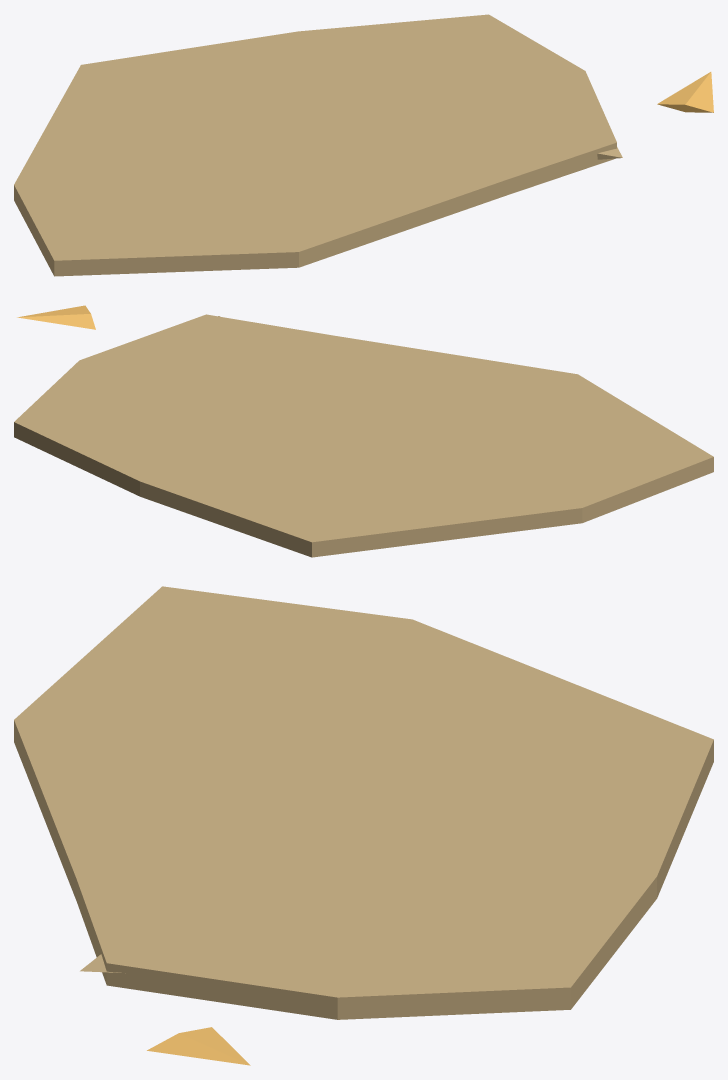
File: folhas.fbx
The picture shows the model from 3 angles, top to bottom: view 1: azimuth 30°, elevation 25°; view 2: azimuth 150°, elevation 25°; view 3: azimuth 270°, elevation 25°; orthographic projection. The views are drawn at different scales.
Visible parts, largest first — view 1: folhas~Folhas@litter, folhas~Folha 5@orange; view 2: folhas~Folhas@litter, folhas~Folha 5@orange; view 3: folhas~Folhas@litter, folhas~Folha 5@orange.
Boxes of the visible parts, x1=… form: folhas~Folhas@litter: x1=14, y1=14, x2=616, y2=276; folhas~Folha 5@orange: x1=657, y1=72, x2=713, y2=112; folhas~Folhas@litter: x1=14, y1=314, x2=713, y2=557; folhas~Folha 5@orange: x1=17, y1=305, x2=95, y2=329; folhas~Folhas@litter: x1=14, y1=586, x2=713, y2=1019; folhas~Folha 5@orange: x1=147, y1=1027, x2=250, y2=1065.
Size of the model in its own units: 1.83 by 0.04 by 1.14.
